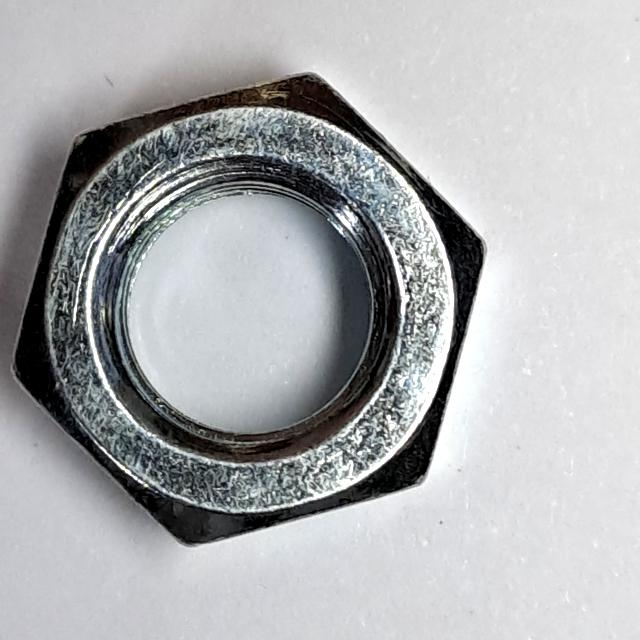Excellent: (2, 62, 502, 569)
